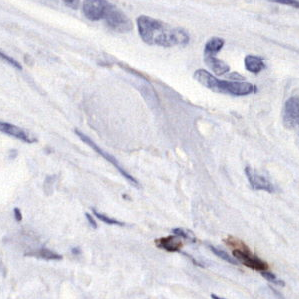Lymphocyte: (155, 231, 185, 255)
